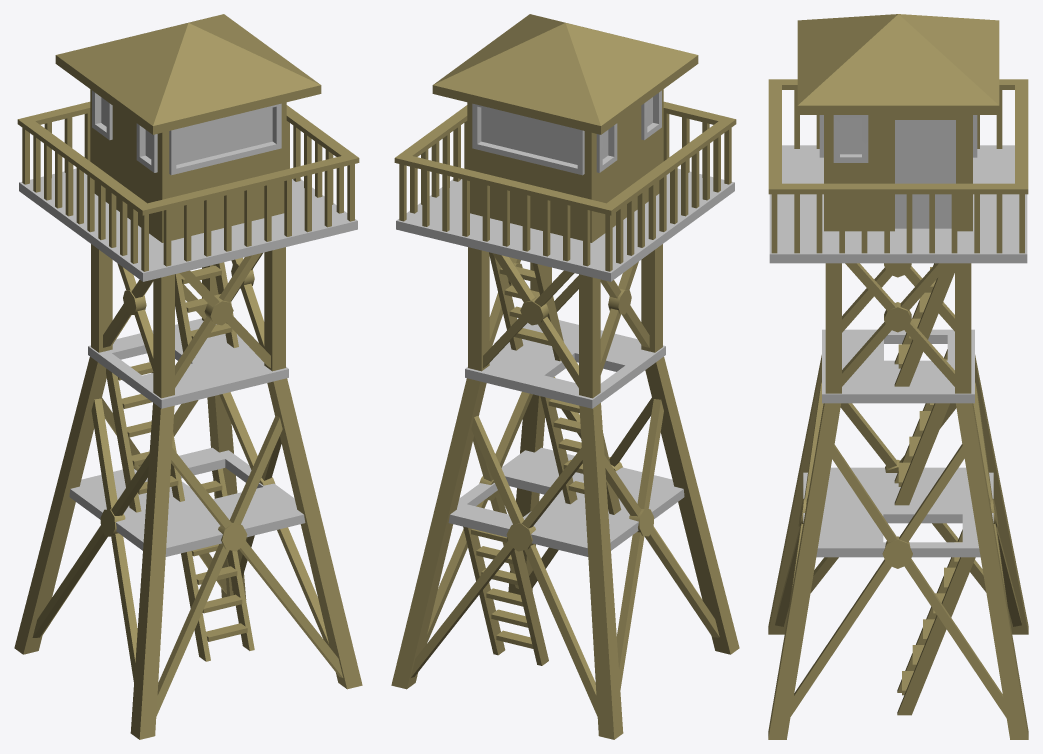
The model's file is Tower_003.fbx.
3 views of the same model, side by side, from view 1: azimuth 30°, elevation 25°; view 2: azimuth 150°, elevation 25°; view 3: azimuth 270°, elevation 25° (orthographic). The views are drawn at different scales.
Parts seen in each view (by area): view 1: Tower_003; view 2: Tower_003; view 3: Tower_003.
Boxes of the visible parts, left/top/right/bottom form: Tower_003: left=14, top=14, right=362, bottom=739; Tower_003: left=391, top=14, right=739, bottom=739; Tower_003: left=768, top=14, right=1028, bottom=739.
Bounding box in the file's own units: 447 × 435 × 1233.
